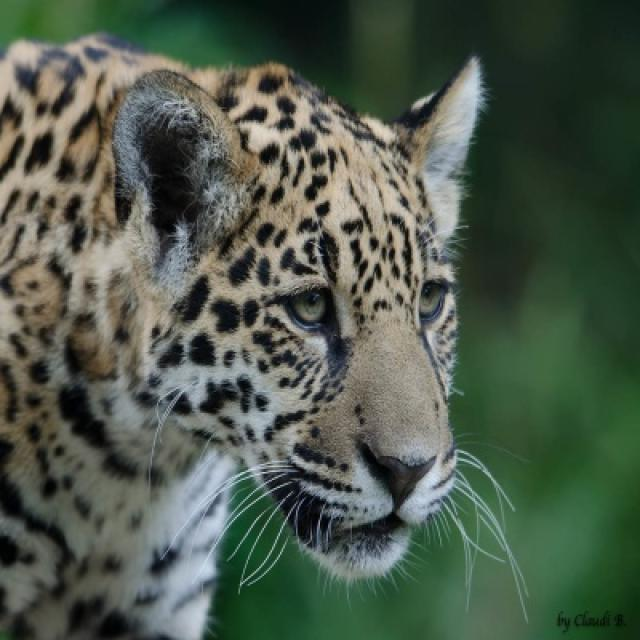Jaguar: (0, 32, 483, 638)
